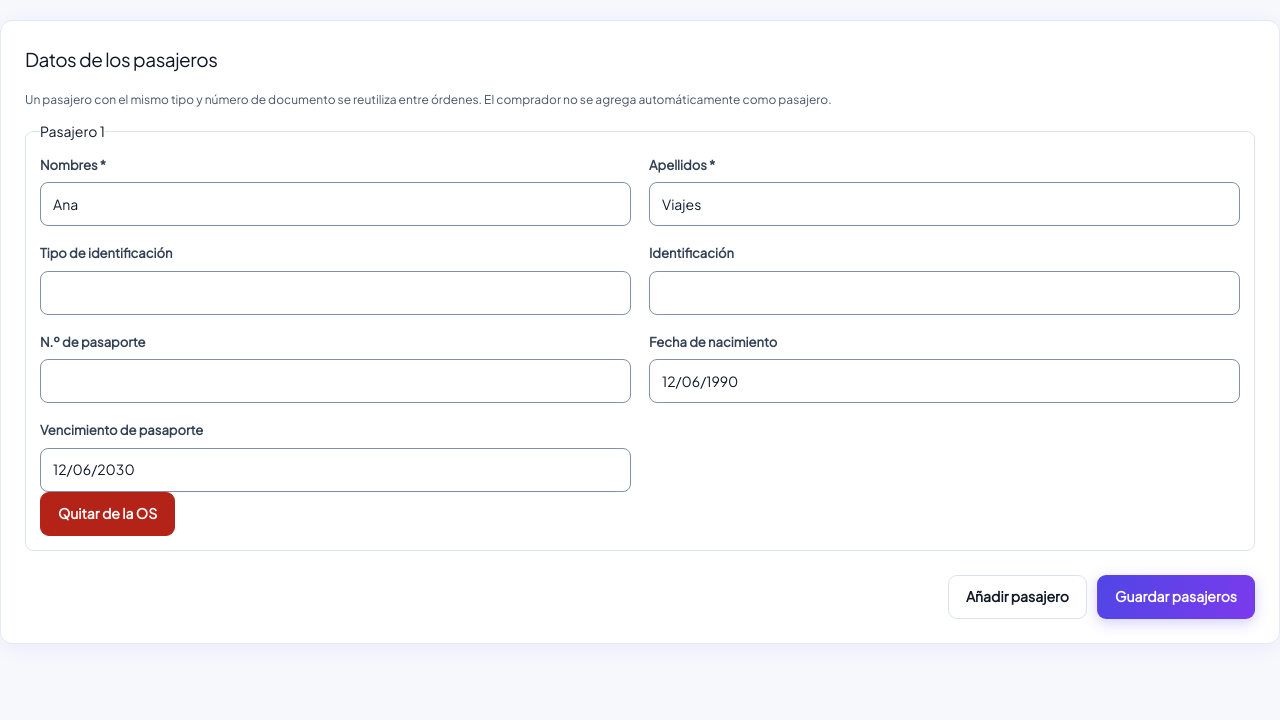
rechaza fechas imposibles antes de guardar pasajeros
This screenshot has width=1280, height=720.
Replace the text in the field labelled "Fecha de nacimiento" with "31021990" at [944, 381], box [649,359,1240,403]
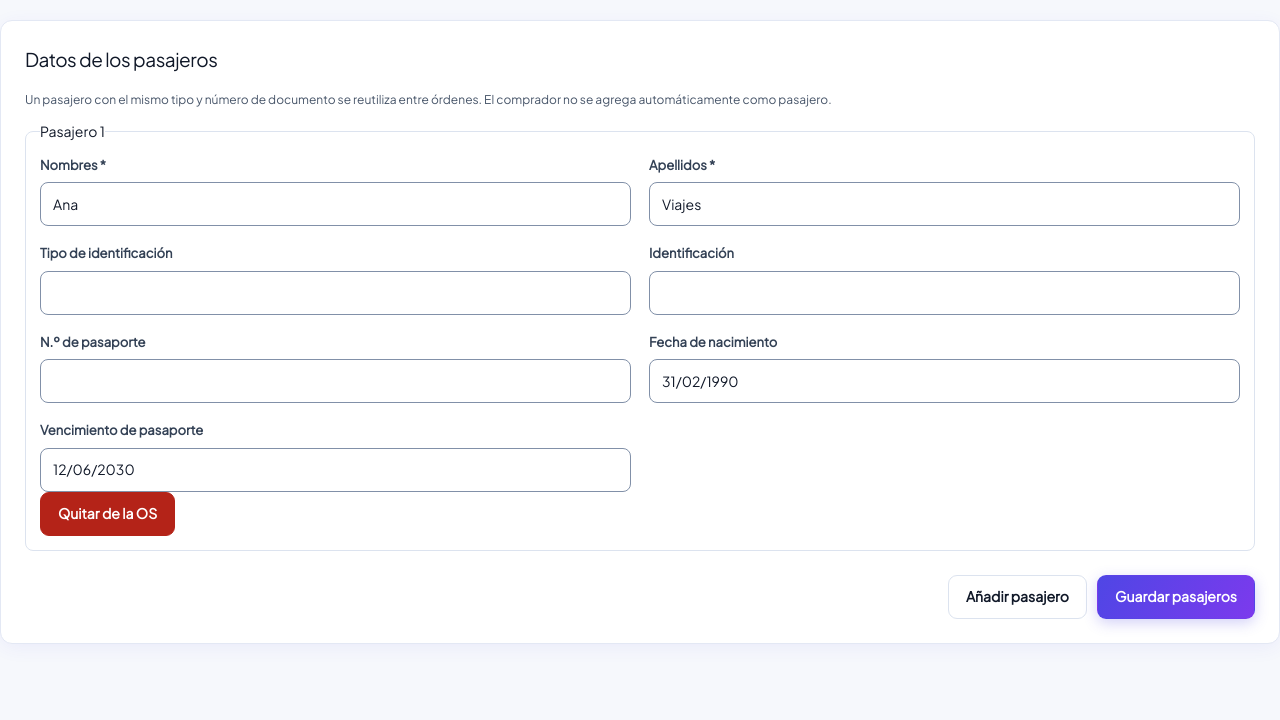
Click the button "Guardar pasajeros" at [1176, 597], box [1097,575,1255,619]
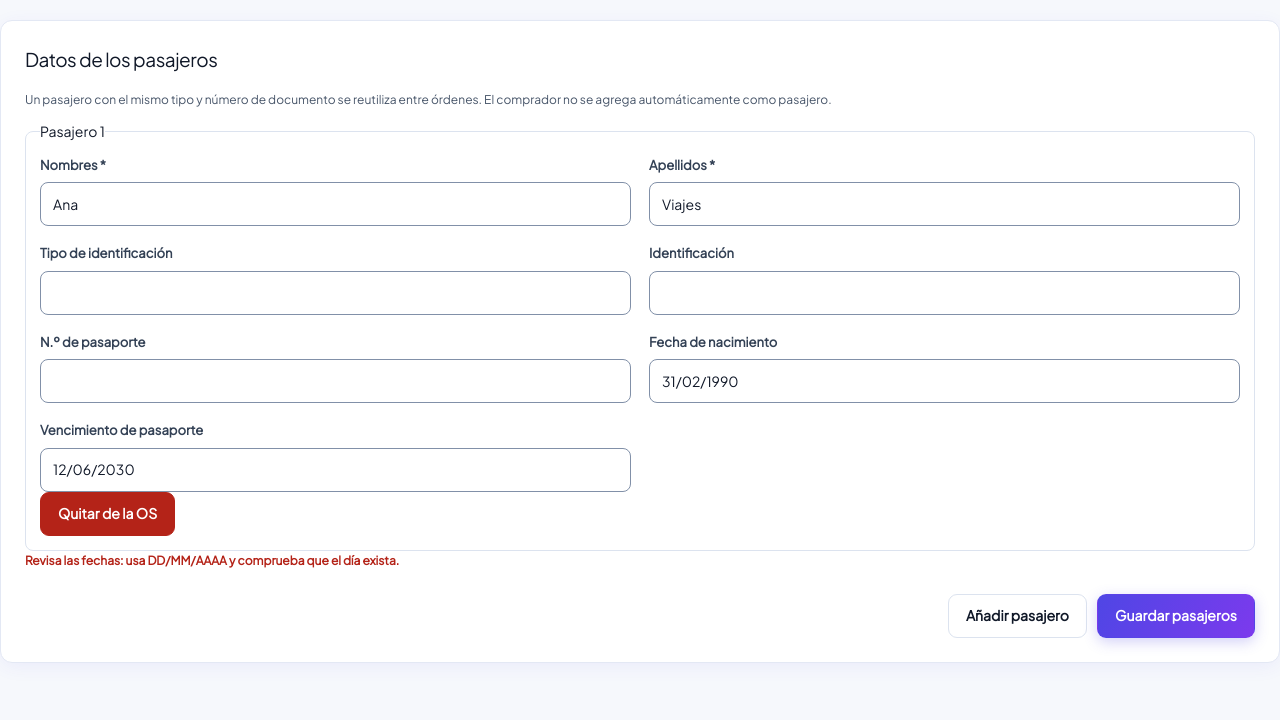
Check: the message shows "Revisa las fechas", box [25,553,399,568]
